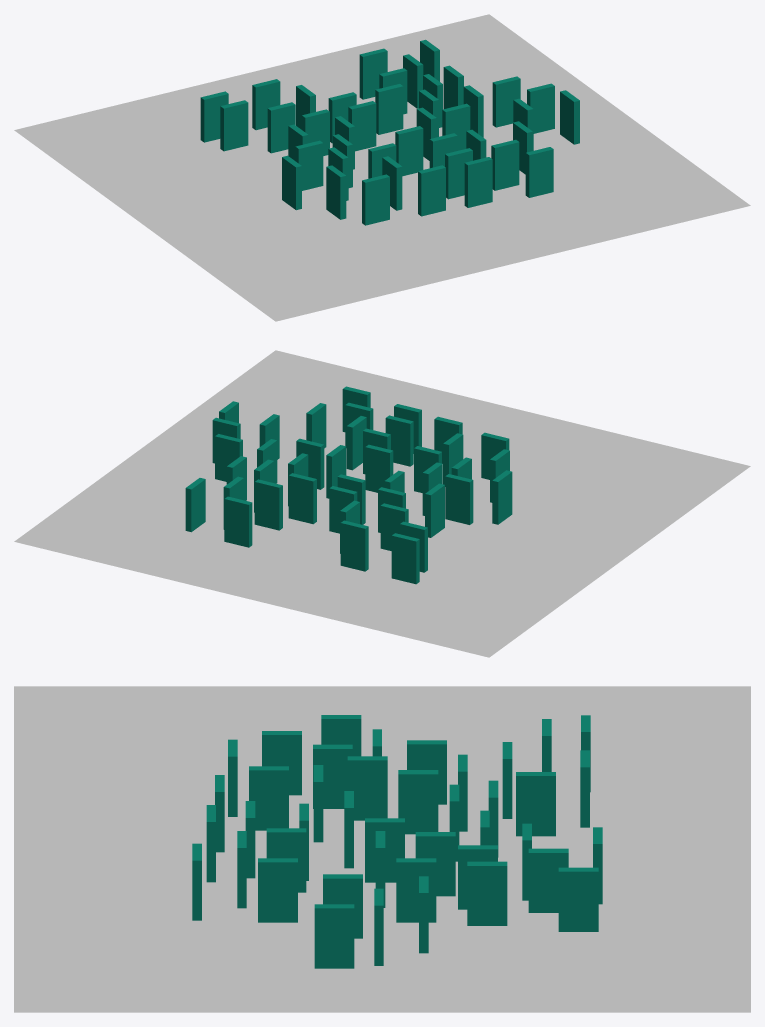
The model's file is nivel1.obj.
3 renders of one model, top to bottom at view 1: azimuth 30°, elevation 25°; view 2: azimuth 150°, elevation 25°; view 3: azimuth 270°, elevation 25°, orthographic. The views are drawn at different scales.
Parts seen in each view (by area): view 1: hide, Box037, Box024, Box027, Box006, Box026, Box015, Box022, Box009, Box014, Box043, Box005 (+24 smaller); view 2: hide, Box019, Box028, Box033, Box006, Box040, Box038, Box021, Box009, Box018, Box035, Box043 (+22 smaller); view 3: hide, Box036, Box032, Box035, Box025, Box004, Box039, Box003, Box023, Box030, Box034, Box008 (+26 smaller).
Part boxes in pixels (x1=…): hide: x1=14, y1=14, x2=750, y2=321; Box037: x1=220, y1=100, x2=248, y2=151; Box024: x1=464, y1=157, x2=492, y2=207; Box027: x1=525, y1=147, x2=553, y2=197; Box006: x1=375, y1=84, x2=403, y2=134; Box026: x1=491, y1=139, x2=519, y2=190; Box015: x1=362, y1=174, x2=389, y2=225; Box022: x1=418, y1=165, x2=445, y2=216; Box009: x1=395, y1=126, x2=423, y2=176; Box014: x1=267, y1=102, x2=295, y2=153; Box043: x1=492, y1=76, x2=520, y2=127; Box005: x1=348, y1=101, x2=376, y2=151; hide: x1=14, y1=350, x2=750, y2=657; Box019: x1=445, y1=474, x2=473, y2=524; Box028: x1=254, y1=479, x2=282, y2=530; Box033: x1=224, y1=496, x2=252, y2=547; Box006: x1=288, y1=473, x2=316, y2=524; Box040: x1=391, y1=533, x2=419, y2=584; Box038: x1=340, y1=520, x2=368, y2=571; Box021: x1=385, y1=415, x2=413, y2=466; Box009: x1=365, y1=444, x2=393, y2=492; Box018: x1=492, y1=470, x2=512, y2=524; Box035: x1=185, y1=478, x2=205, y2=532; Box043: x1=215, y1=434, x2=242, y2=481; hide: x1=14, y1=686, x2=750, y2=1012; Box036: x1=314, y1=904, x2=354, y2=968; Box032: x1=467, y1=861, x2=507, y2=925; Box035: x1=558, y1=867, x2=598, y2=931; Box025: x1=258, y1=858, x2=297, y2=922; Box004: x1=398, y1=770, x2=438, y2=834; Box039: x1=516, y1=772, x2=555, y2=836; Box003: x1=347, y1=756, x2=387, y2=820; Box023: x1=249, y1=766, x2=288, y2=830; Box030: x1=396, y1=858, x2=436, y2=922; Box034: x1=528, y1=848, x2=568, y2=912; Box008: x1=365, y1=818, x2=404, y2=882.
Bounding box in the file's own units: 764 × 67.63 × 729.
